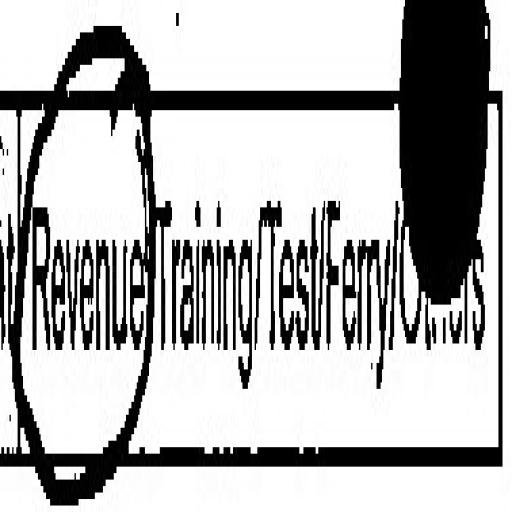check: (12, 0, 157, 512)
